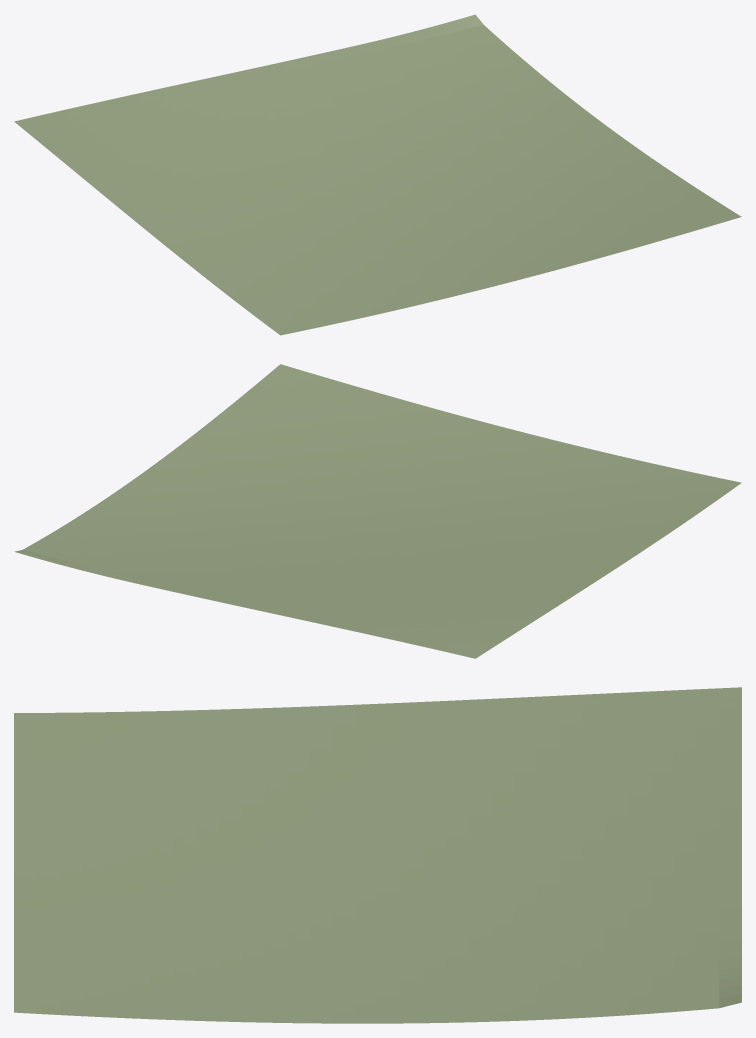
Rendered from alpine-6-12.glb.
The picture shows the model from 3 angles, top to bottom: view 1: azimuth 30°, elevation 25°; view 2: azimuth 150°, elevation 25°; view 3: azimuth 270°, elevation 25°; orthographic projection. The views are drawn at different scales.
Visible parts, largest first — view 1: alpine-6-12; view 2: alpine-6-12; view 3: alpine-6-12.
Part boxes in pixels (box(x1,y1,x2,y2)): alpine-6-12: box(14, 14, 741, 335); alpine-6-12: box(14, 364, 741, 658); alpine-6-12: box(14, 687, 741, 1023).
Size of the model in its own units: 256 by 12.98 by 256.
